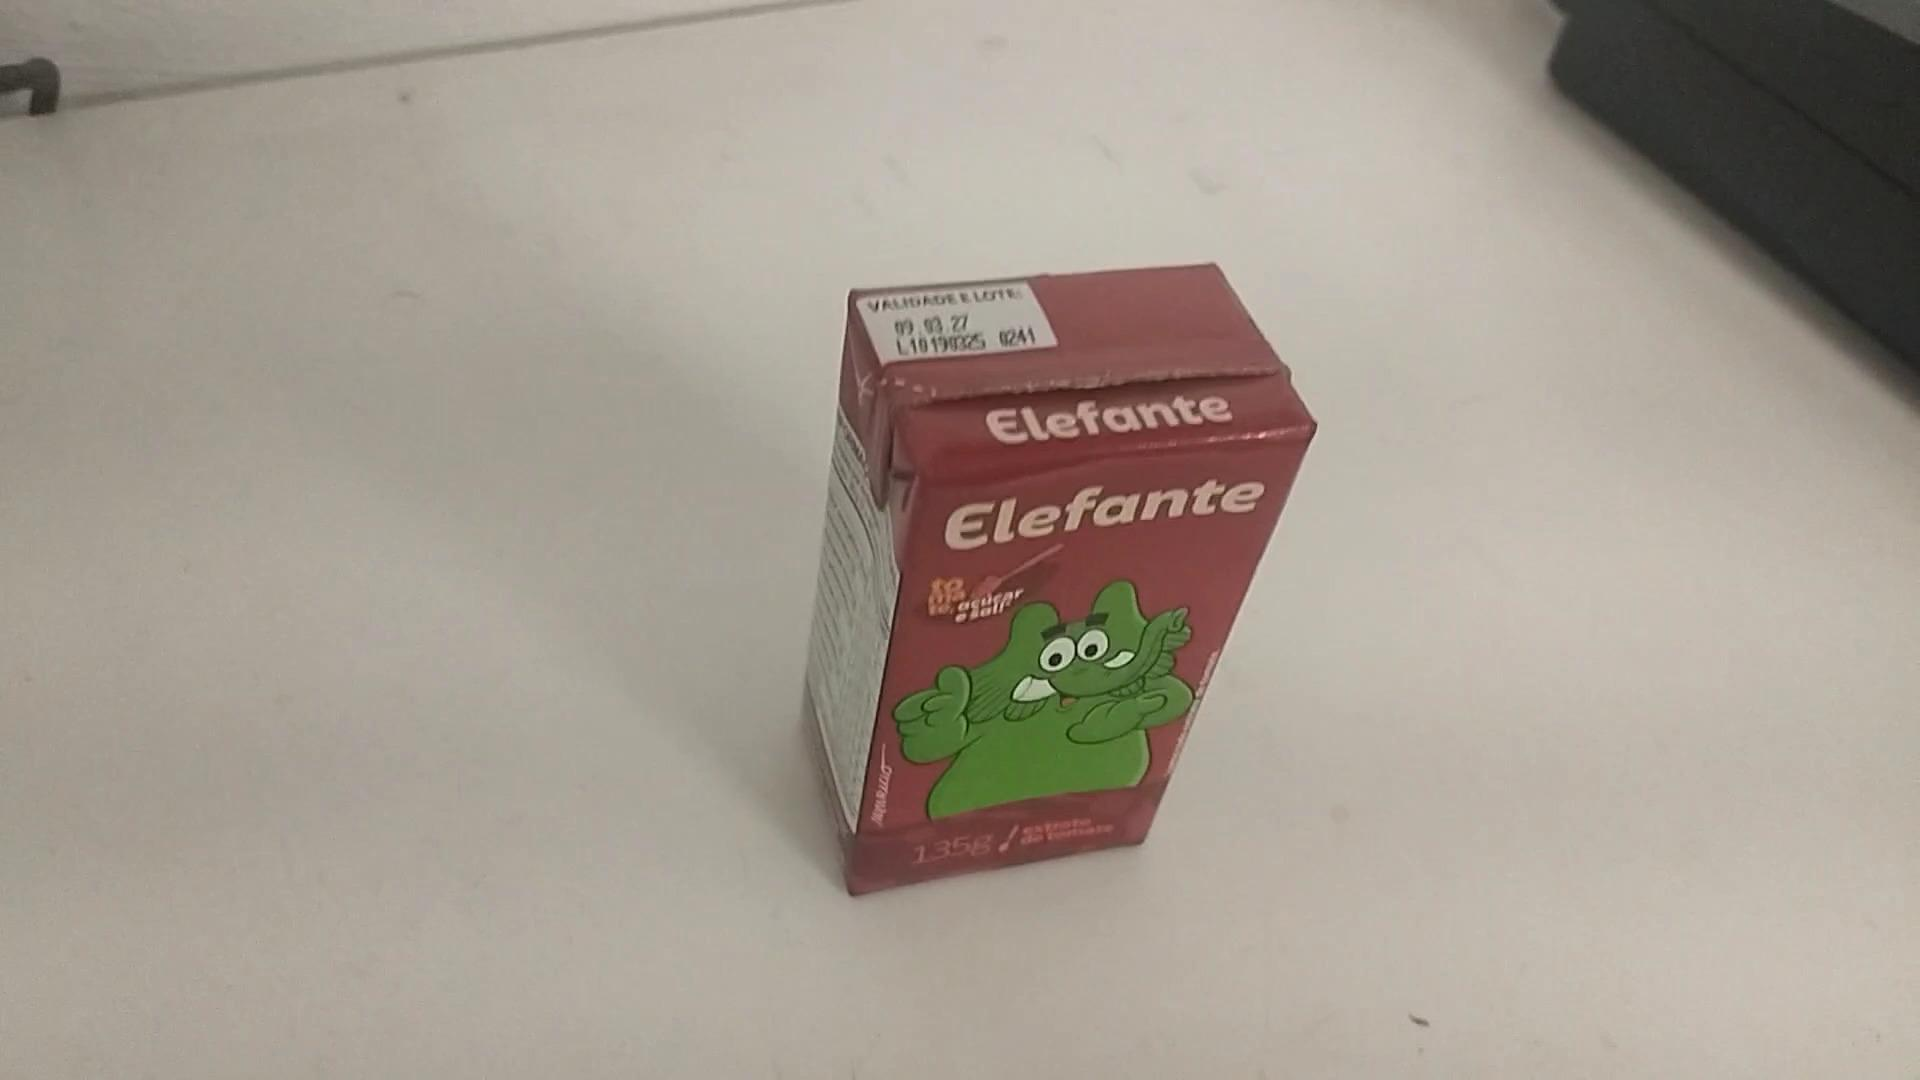tomate: (796, 245, 1327, 894)
